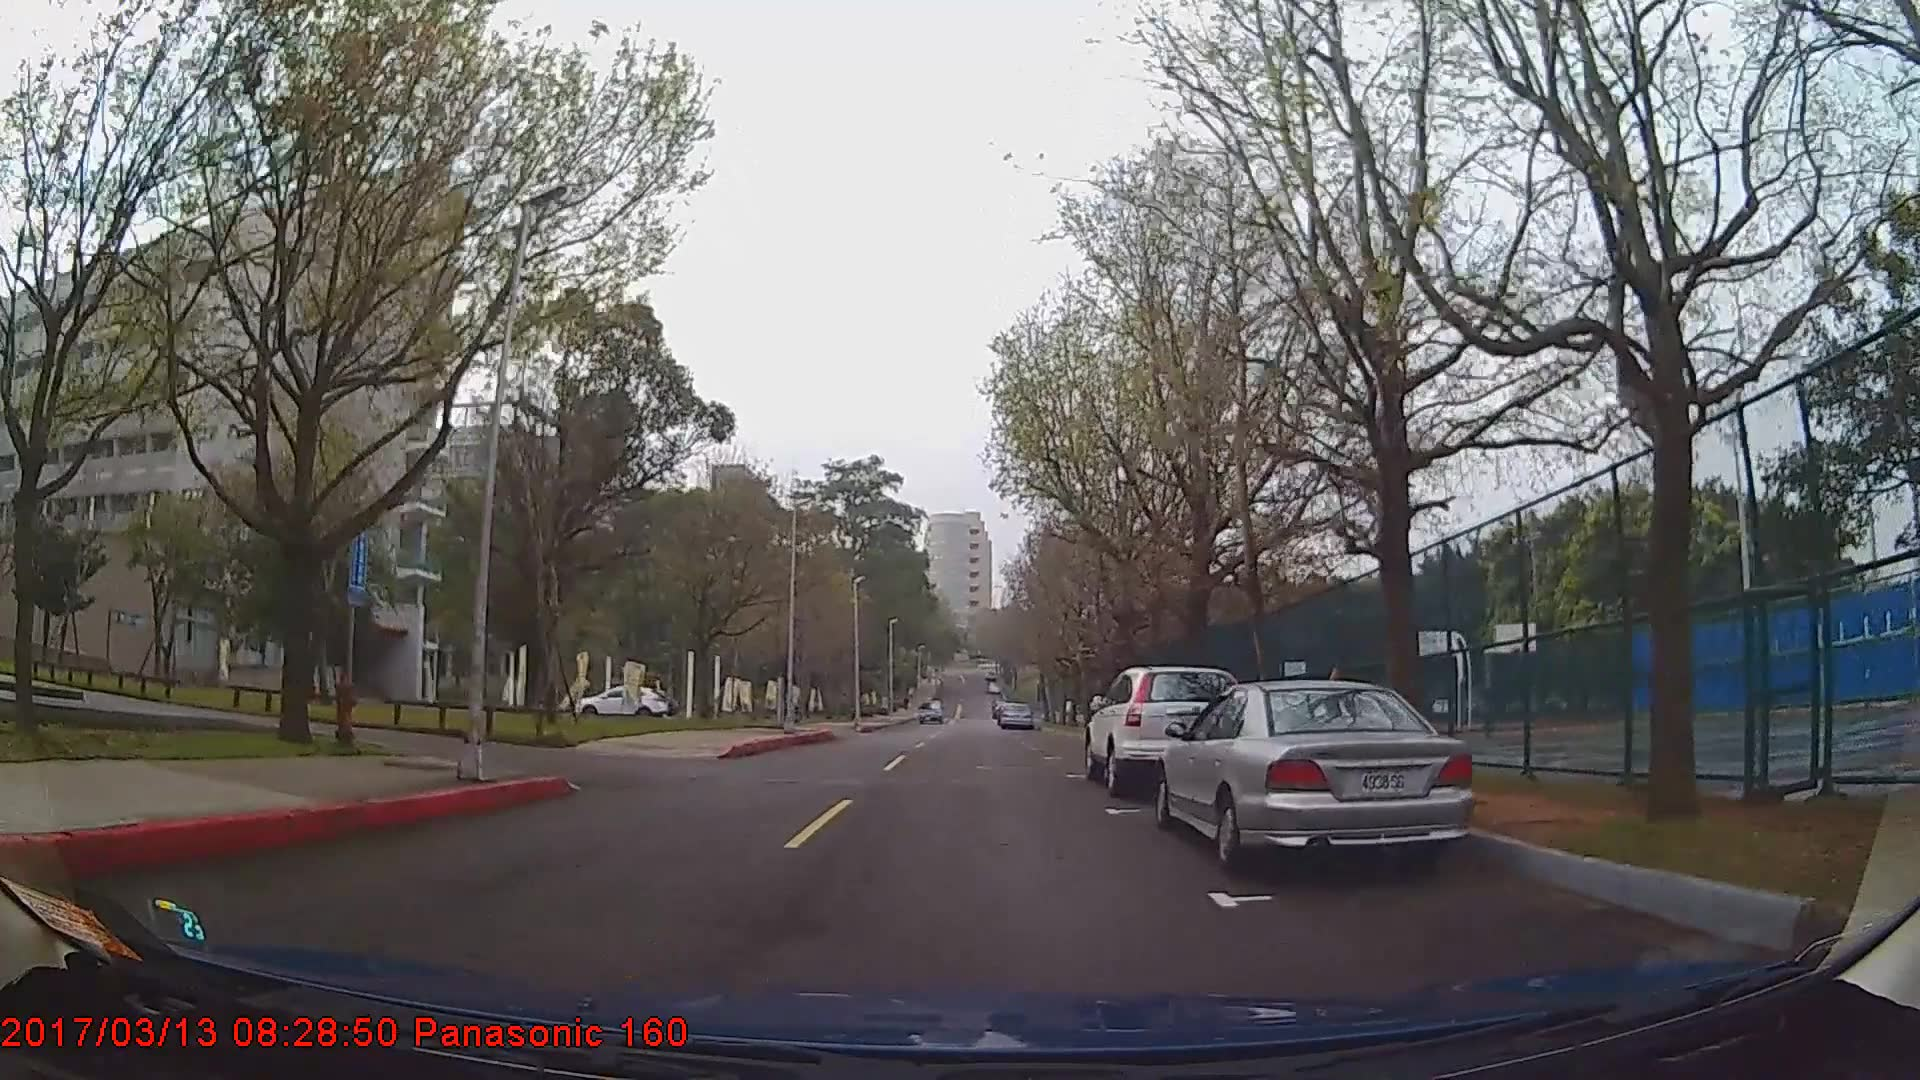vehicle: (1155, 676, 1474, 868), (1083, 665, 1244, 795), (574, 682, 671, 719), (996, 699, 1033, 728), (915, 696, 942, 723)
